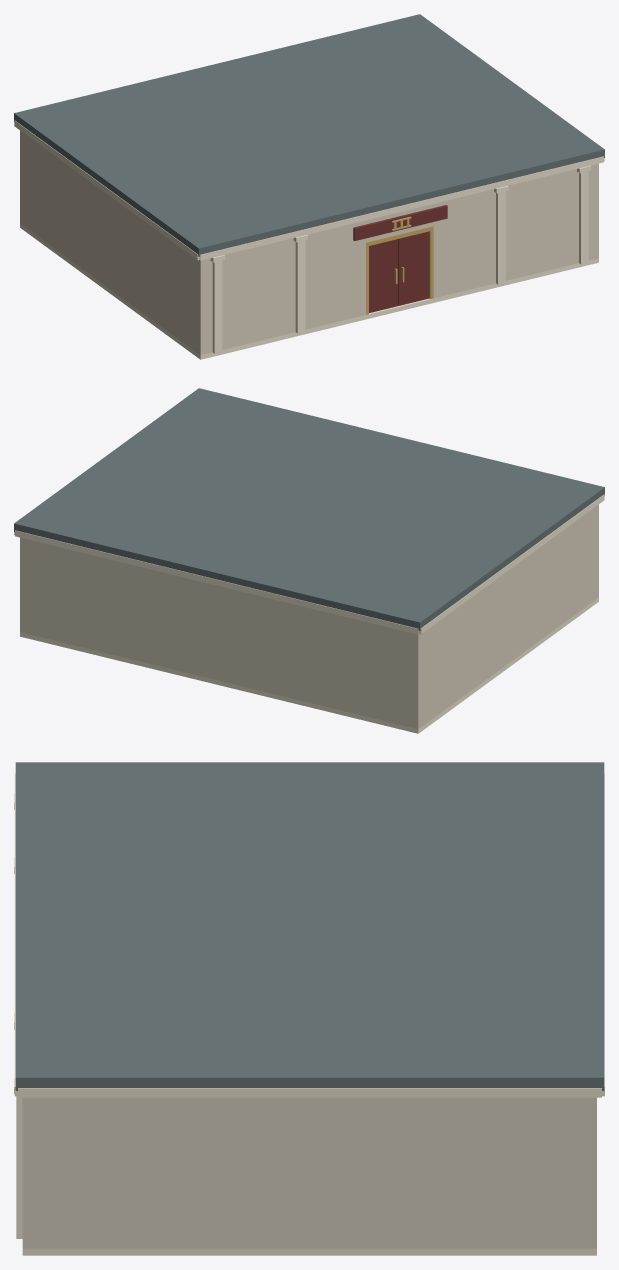
File: bank_small_shell_v1.glb
The picture shows the model from 3 angles, top to bottom: view 1: azimuth 30°, elevation 25°; view 2: azimuth 150°, elevation 25°; view 3: azimuth 270°, elevation 25°; orthographic projection. The views are drawn at different scales.
Visible parts, largest first — view 1: Bank_Roof, Bank_Wall_Left, Bank_Wall_Front_Right, Bank_Wall_Front_Left, Bank_Floor, Bank_Cornice_Front, Bank_Door_R, Bank_Door_L, Bank_Sign_Plaque, Bank_Cornice_Left, Bank_Pilaster_-4.68, Bank_Pilaster_-8.55 (+4 smaller); view 2: Bank_Roof, Bank_Wall_Rear, Bank_Wall_Left, Bank_Floor, Bank_Cornice_Rear, Bank_Cornice_Left, Bank_Wall_Right; view 3: Bank_Roof, Bank_Wall_Right, Bank_Cornice_Right, Bank_Floor, Bank_Pilaster_8.55, Bank_Cornice_Front.
Part boxes in pixels (x1,y1,x2,y2): Bank_Roof: [14, 14, 604, 256]; Bank_Wall_Left: [20, 130, 206, 355]; Bank_Wall_Front_Right: [433, 165, 592, 298]; Bank_Wall_Front_Left: [207, 220, 365, 353]; Bank_Floor: [20, 223, 598, 359]; Bank_Cornice_Front: [199, 156, 603, 260]; Bank_Door_R: [398, 231, 428, 305]; Bank_Door_L: [369, 239, 398, 312]; Bank_Sign_Plaque: [353, 205, 447, 240]; Bank_Cornice_Left: [14, 120, 199, 260]; Bank_Pilaster_-4.68: [295, 240, 305, 333]; Bank_Pilaster_-8.55: [212, 261, 222, 353]; Bank_Roof: [14, 388, 604, 630]; Bank_Wall_Rear: [26, 539, 411, 727]; Bank_Wall_Left: [412, 504, 598, 729]; Bank_Floor: [20, 597, 598, 733]; Bank_Cornice_Rear: [15, 530, 419, 634]; Bank_Cornice_Left: [419, 494, 604, 634]; Bank_Wall_Right: [20, 537, 26, 633]; Bank_Roof: [15, 762, 604, 1090]; Bank_Wall_Right: [22, 1097, 596, 1248]; Bank_Cornice_Right: [18, 1088, 601, 1097]; Bank_Floor: [22, 1248, 596, 1255]; Bank_Pilaster_8.55: [16, 1096, 22, 1238]; Bank_Cornice_Front: [14, 773, 17, 1096].
Bounding box in the file's own units: 19 × 5.08 × 15.02.
